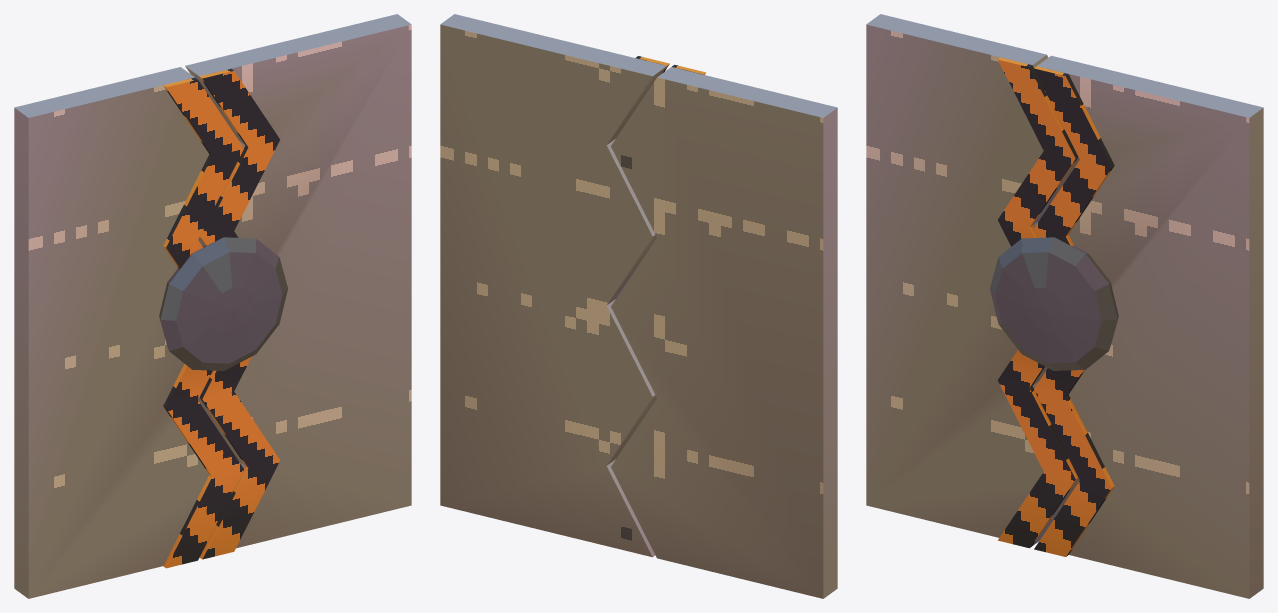
The model's file is stn.airlock.glb.
The picture shows the model from 3 angles, left to right: view 1: azimuth 30°, elevation 25°; view 2: azimuth 150°, elevation 25°; view 3: azimuth 330°, elevation 25°; orthographic projection.
Parts seen in each view (by area): view 1: kit_leaf_l, kit_leaf_r, kit_seal_l, kit_hub, kit_seal_r; view 2: kit_leaf_l, kit_leaf_r; view 3: kit_leaf_r, kit_leaf_l, kit_hub, kit_seal_l, kit_seal_r.
Part boxes in pixels (x1=…): kit_leaf_l: x1=14, y1=67, x2=209, y2=598; kit_leaf_r: x1=185, y1=14, x2=411, y2=548; kit_seal_l: x1=163, y1=77, x2=243, y2=568; kit_hub: x1=159, y1=237, x2=287, y2=370; kit_seal_r: x1=199, y1=68, x2=280, y2=559; kit_leaf_l: x1=611, y1=67, x2=837, y2=598; kit_leaf_r: x1=440, y1=14, x2=666, y2=557; kit_leaf_r: x1=1037, y1=55, x2=1263, y2=598; kit_leaf_l: x1=866, y1=14, x2=1079, y2=545; kit_hub: x1=990, y1=237, x2=1118, y2=370; kit_seal_l: x1=997, y1=57, x2=1078, y2=548; kit_seal_r: x1=1034, y1=66, x2=1114, y2=556.
Size of the model in its own units: 2.16 by 2.59 by 0.27.
3 materials, 3 textured.
